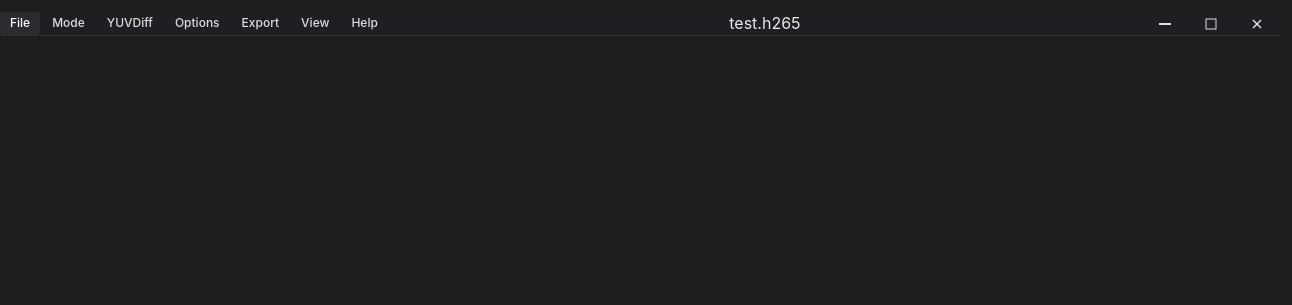
Test: TitleBar › should open File menu on click
Hover over the text "File" at (20, 24), box [10,15,30,32]
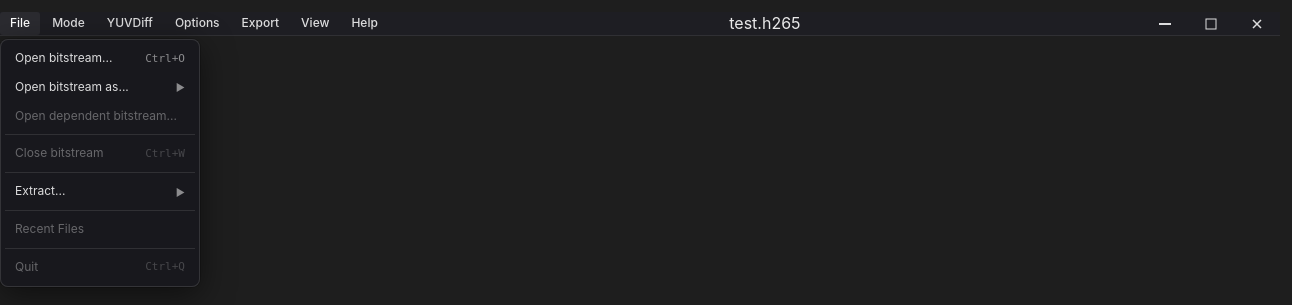
Check: the text "Open bitstream..." is shown, box [15,50,125,67]
Check: the text "Close bitstream" is shown, box [15,145,104,160]
